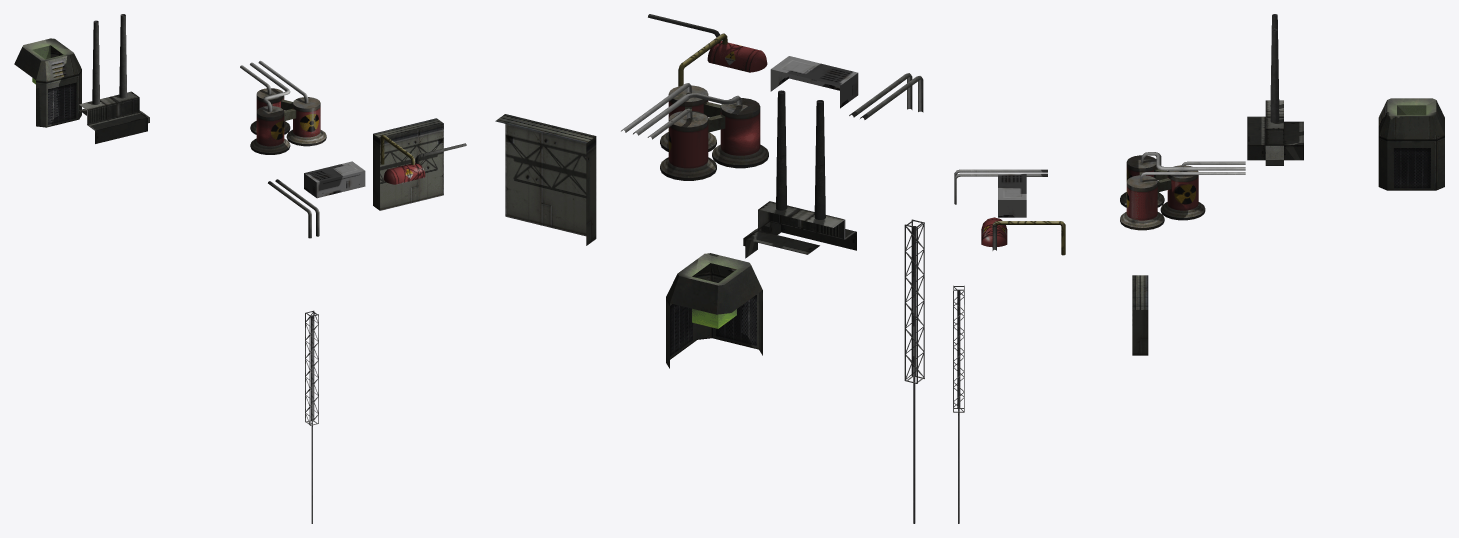
Rendered from ML2_Ground_A_objs.FBX.
3 views of the same model, side by side, from view 1: azimuth 30°, elevation 25°; view 2: azimuth 150°, elevation 25°; view 3: azimuth 270°, elevation 25° (orthographic). The views are drawn at different scales.
Parts seen in each view (by area): view 1: ML2_Ground_A_objs; view 2: ML2_Ground_A_objs; view 3: ML2_Ground_A_objs.
Boxes of the visible parts, box(x1,y1,x2,y2) form: ML2_Ground_A_objs: box(14, 14, 466, 523); ML2_Ground_A_objs: box(495, 14, 924, 523); ML2_Ground_A_objs: box(953, 14, 1444, 523).
Bounding box in the file's own units: 45.42 × 60.86 × 58.05.
1 material, 1 textured.
